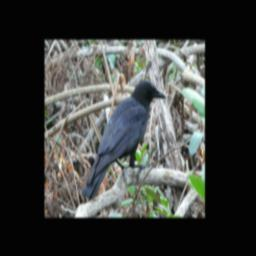Crow: (81, 80, 167, 203)
